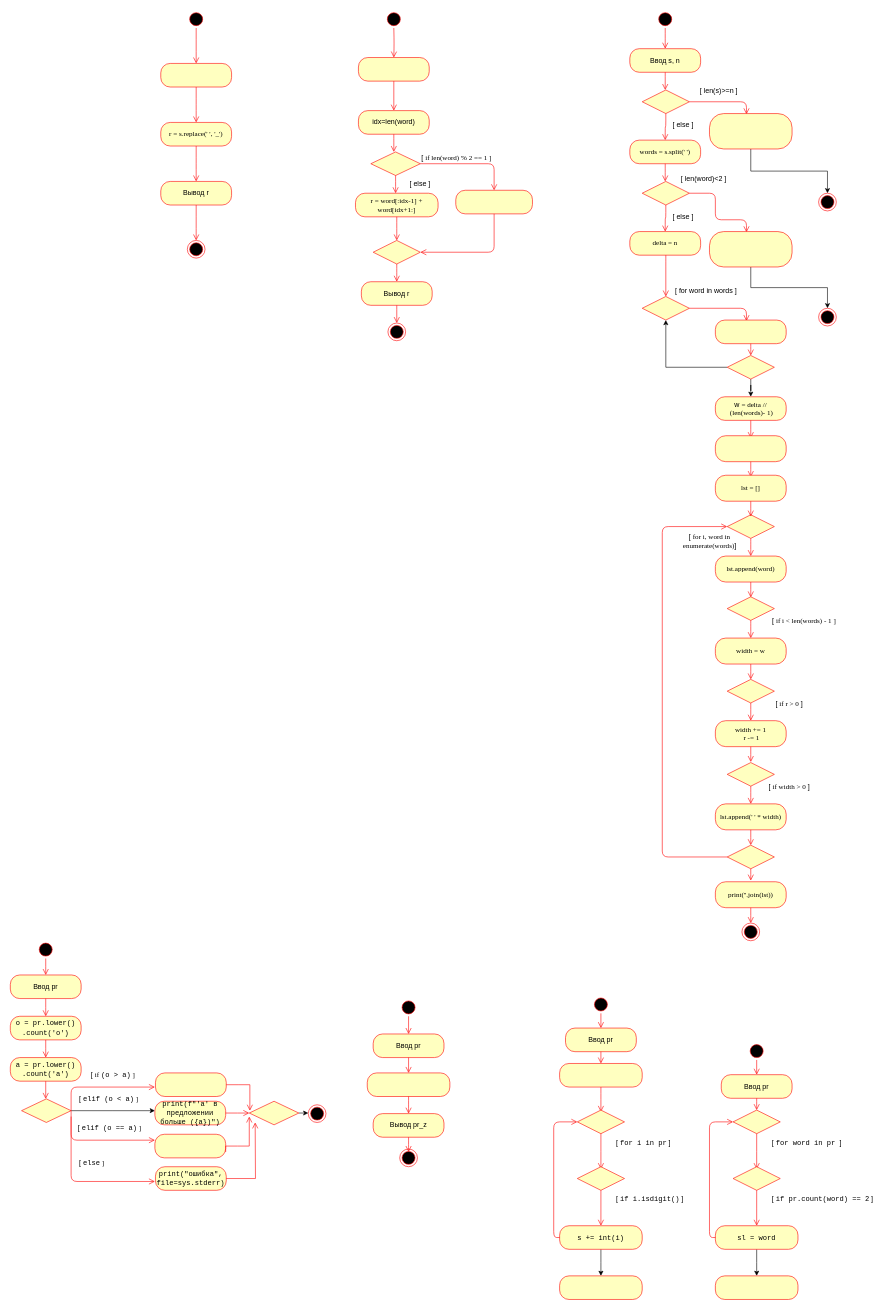
This 884x1310 diagram has some shape labels left out. The shapes that lost their labels are listed below. From the top down, each one's box as (x1, y1, x2, y2) in pixels, then its label:
(160, 63, 232, 87): Ввод s
(358, 57, 429, 81): Ввод word
(709, 113, 792, 149): Вывод " Заданная длина должна быть больше длины предложения "
(455, 190, 532, 214): r = word[:idx] + word[idx+ 1 :]
(709, 231, 792, 267): Вывод Предложение должно содержать несколько слов
(715, 319, 786, 344): delta -= len (word)
(715, 435, 786, 462): r= delta % ( len (words)- 1 )
(155, 1072, 226, 1097): print ( f"'o' в предложении больше ( { o } )" )
(367, 1072, 450, 1097): pr_z=pr.replace ( 'про' , 'нет' )
(559, 1063, 642, 1087): s = 0
(154, 1134, 226, 1158): print ( f"'a' ( { a } ) = 'o' ( { o } )" )
(559, 1275, 642, 1299): Вывод s
(715, 1275, 798, 1299): Вывод sl
